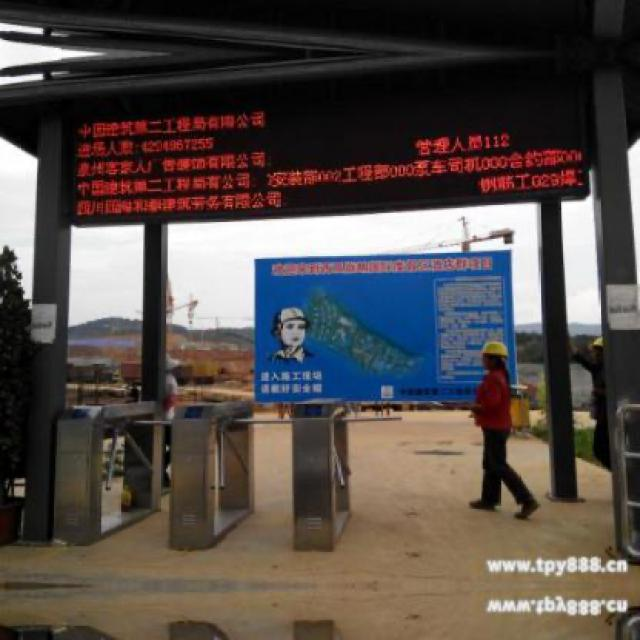helmet: (478, 340, 508, 380)
